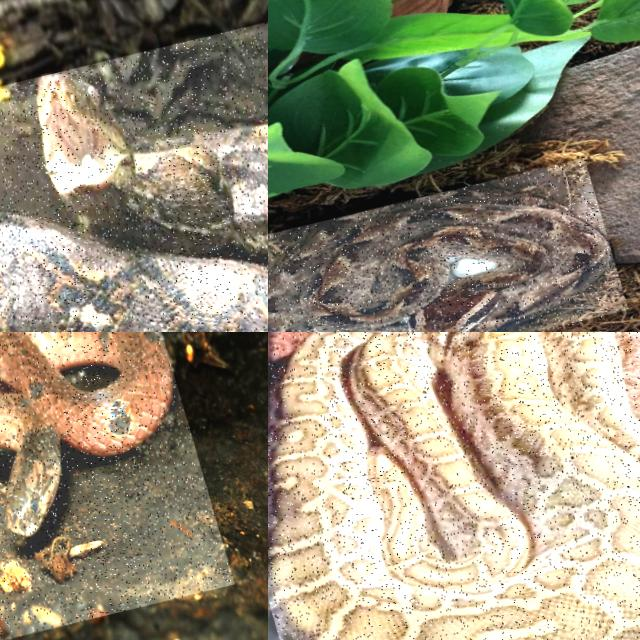Calliophis maculiceps: (0, 332, 171, 535)
Calloselasma rhodostoma: (268, 193, 612, 331)
Malayopython reticulatus: (0, 215, 267, 331)
Python bivittatus: (268, 332, 639, 639)
snake: (268, 332, 639, 639), (268, 193, 612, 331), (0, 332, 171, 535), (0, 215, 267, 331)
